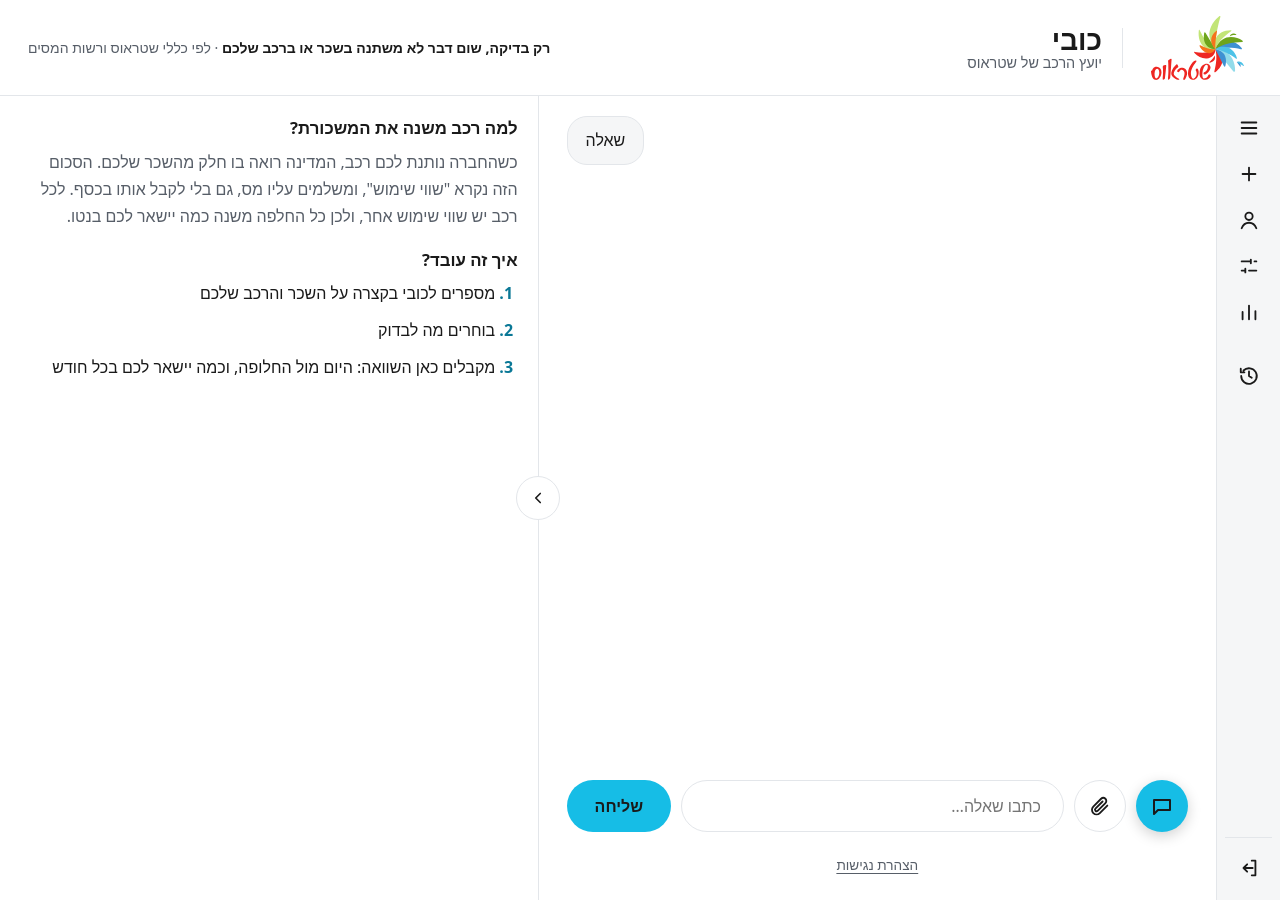
EmployeeScreen › keeps the conversation id for the next message
The image size is (1280, 900).
Expected: the list item "שאלה" is shown, [567,116,644,165]
In the text box named "הודעה": (873, 806) [681,780,1064,832], type "שלום"
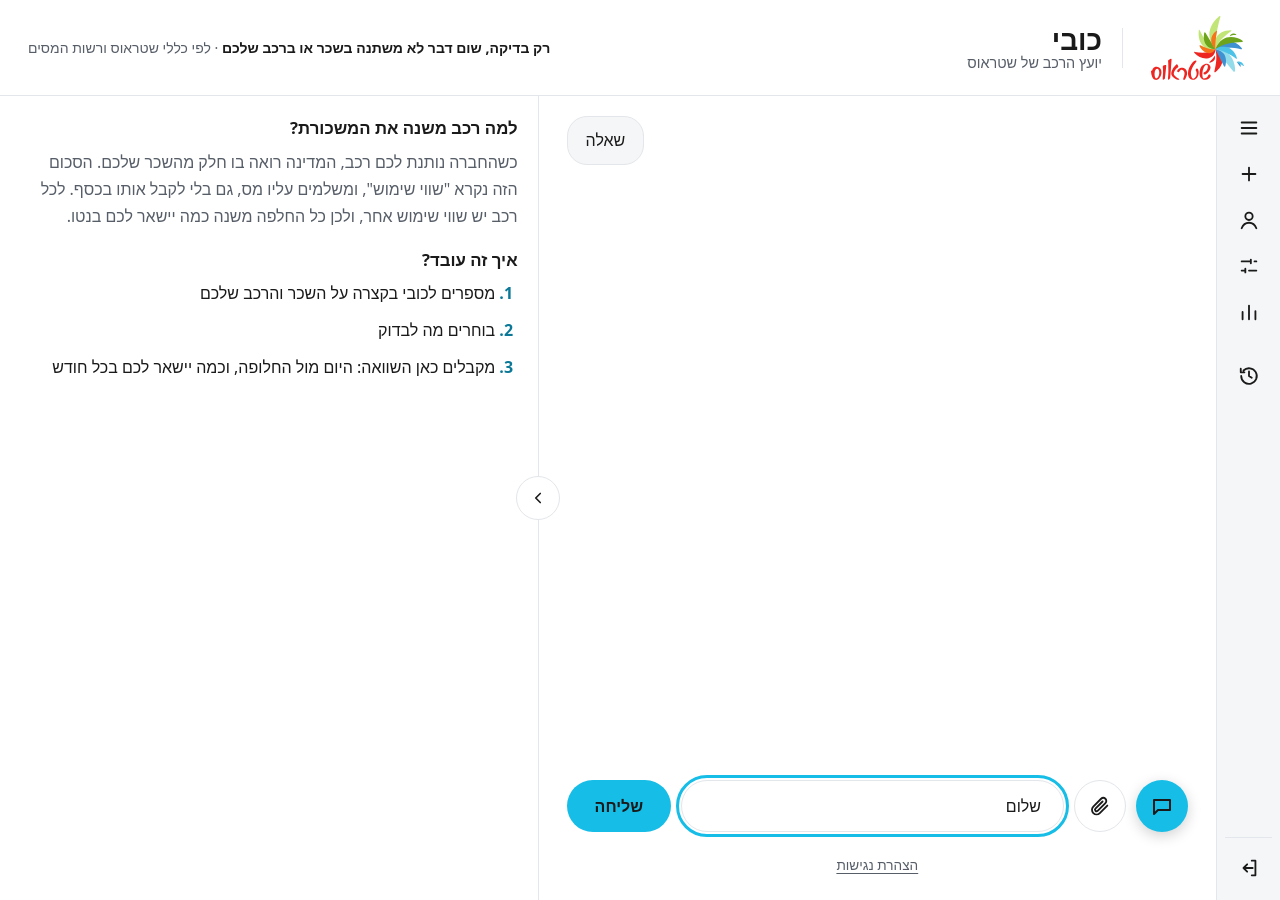
Click the button "שליחה": (619, 806) [567,780,671,832]
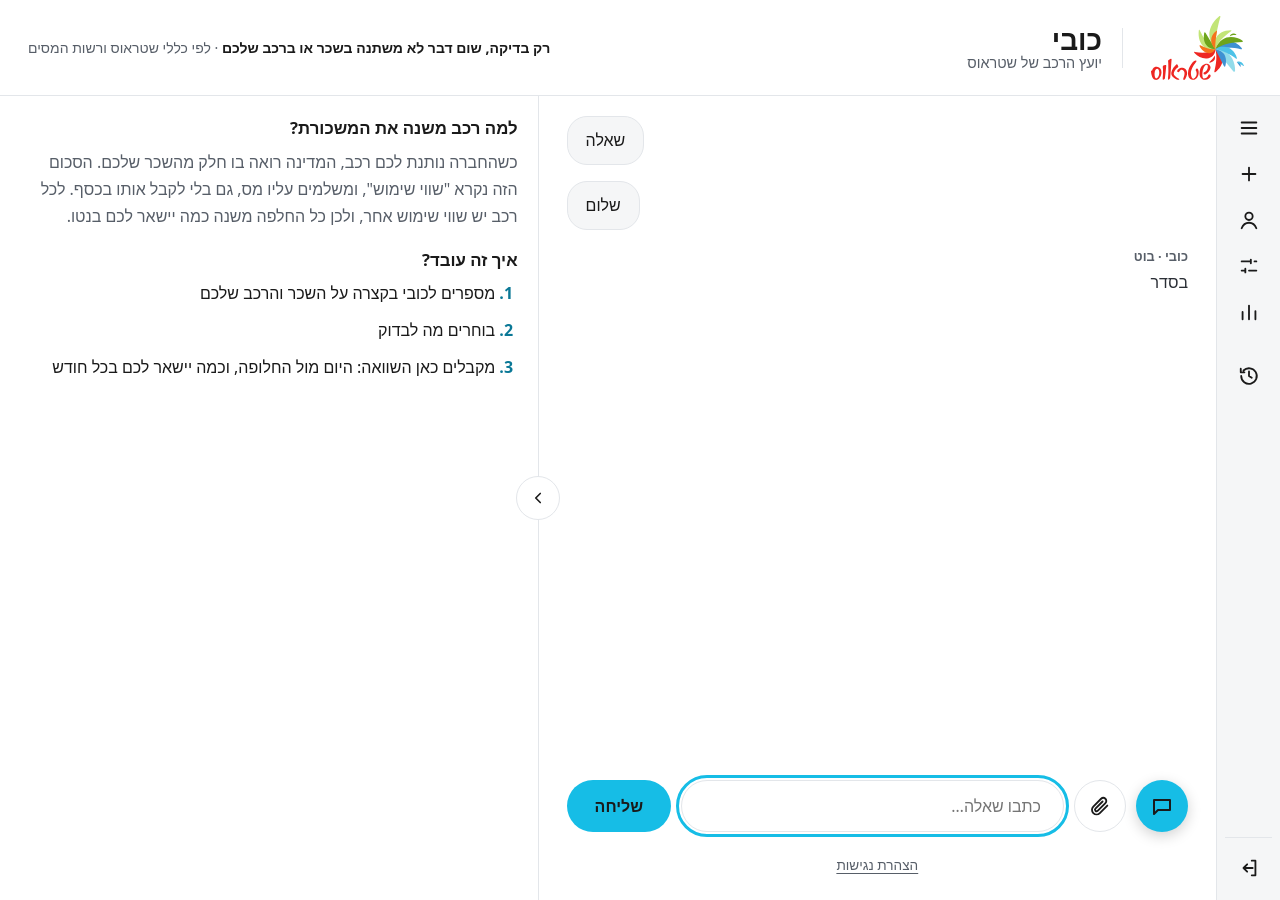
Now the text "בסדר" is shown, box [1150,271,1188,293]
